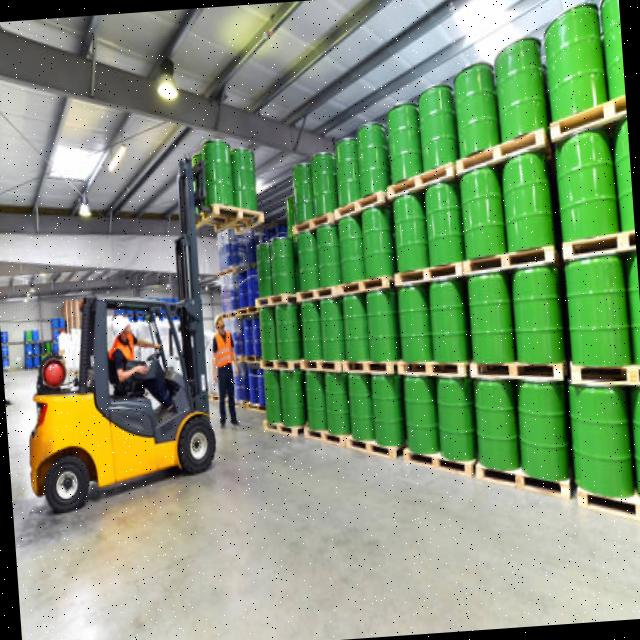Wooden-Pallets: (458, 234, 557, 291), (389, 149, 452, 209), (398, 354, 464, 391), (336, 263, 390, 307), (288, 200, 334, 246), (342, 348, 396, 385), (298, 349, 344, 388), (293, 273, 337, 310), (299, 418, 345, 452)
